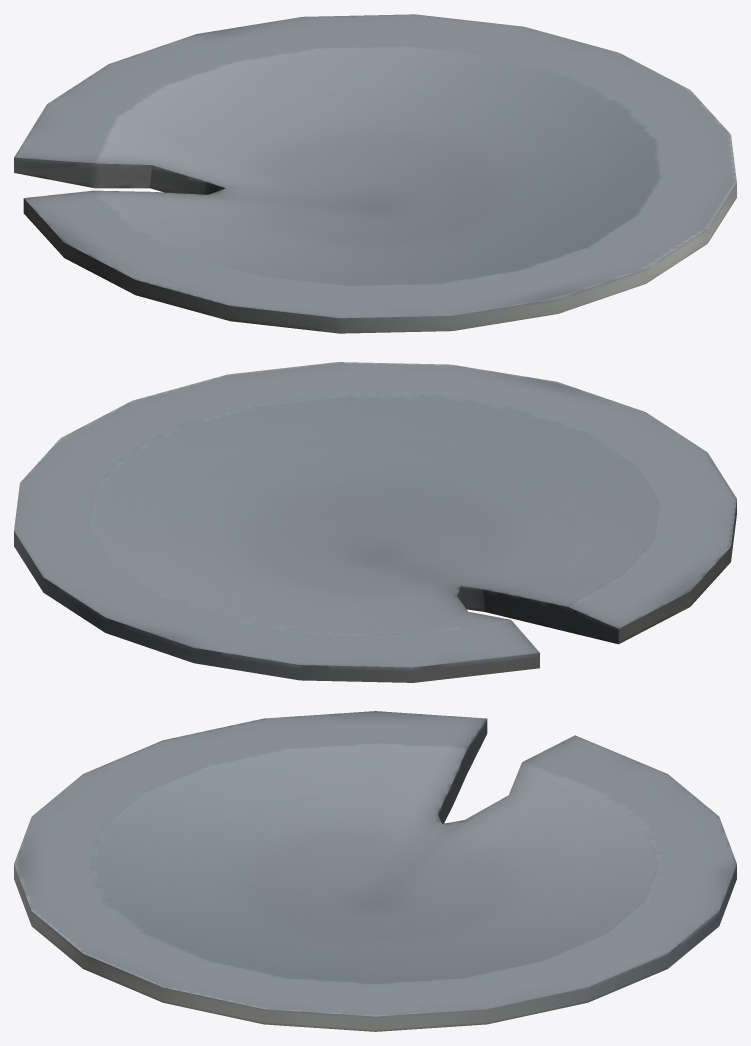
The model's file is Relic_Gluttony01.obj.
The picture shows the model from 3 angles, top to bottom: view 1: azimuth 30°, elevation 25°; view 2: azimuth 150°, elevation 25°; view 3: azimuth 270°, elevation 25°; orthographic projection.
Parts seen in each view (by area): view 1: Relic_Gluttony01 Fix; view 2: Relic_Gluttony01 Fix; view 3: Relic_Gluttony01 Fix.
Part boxes in pixels (box(x1,y1,x2,y2)): Relic_Gluttony01 Fix: box(14, 14, 736, 333); Relic_Gluttony01 Fix: box(14, 362, 736, 682); Relic_Gluttony01 Fix: box(14, 711, 736, 1031).
Bounding box in the file's own units: 30 × 2.27 × 30.
Materials: 1 (1 with a texture image).
